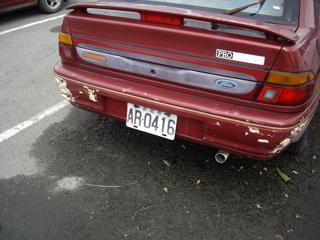plate: (126, 101, 178, 142)
